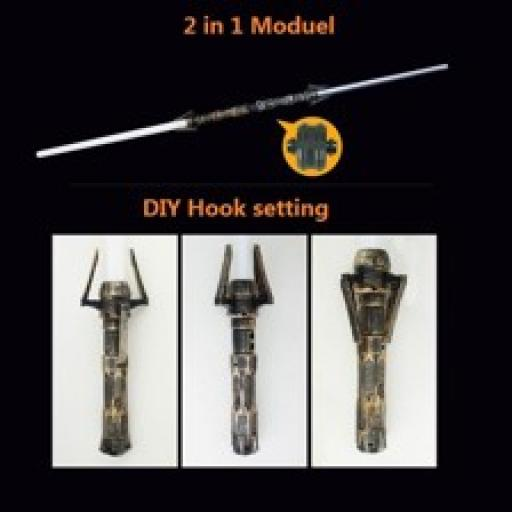lightsaber: (36, 58, 457, 162), (336, 245, 410, 462), (208, 239, 276, 456), (80, 244, 148, 454)
